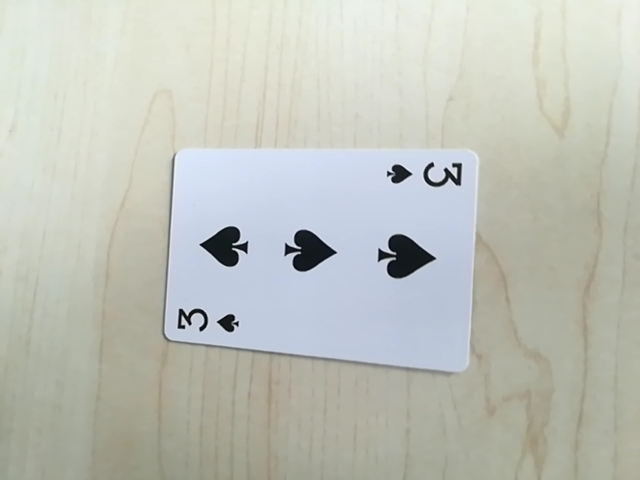ht 3: (382, 156, 469, 194), (170, 304, 246, 339)
